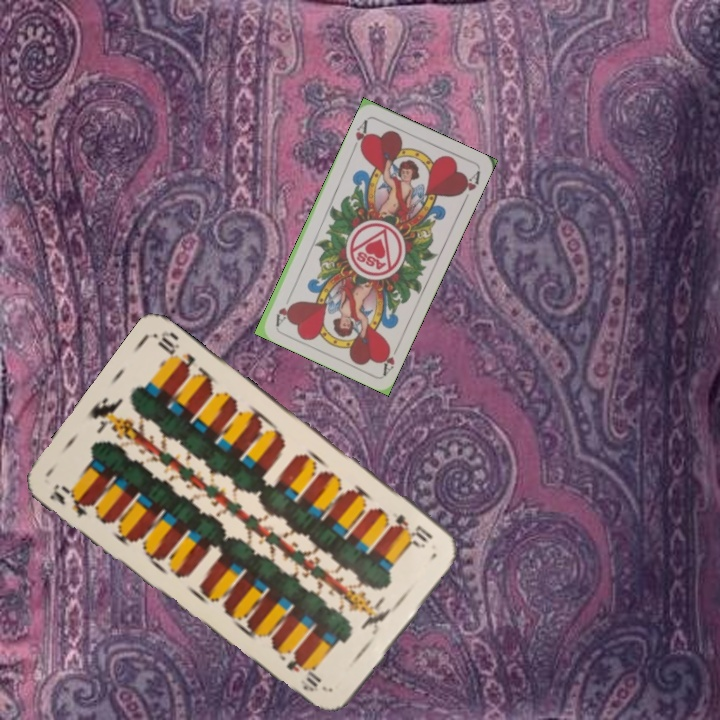E10: (45, 479, 100, 521), (391, 510, 436, 550)
HA: (377, 338, 403, 377), (351, 115, 371, 154)
